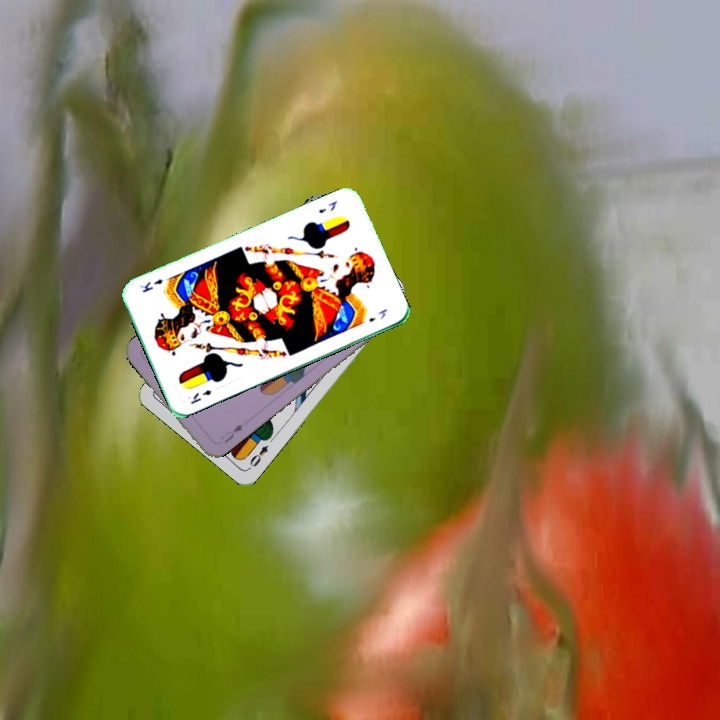EK: (186, 386, 214, 407), (314, 197, 340, 216)
EO: (245, 441, 271, 469)
EU: (217, 420, 246, 446)
